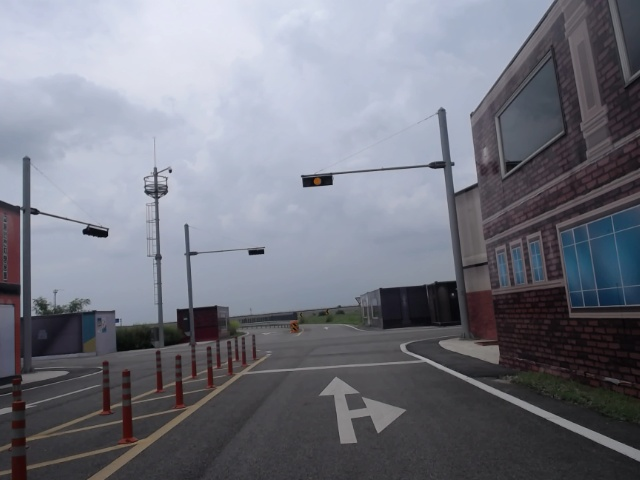orange_3: (303, 174, 333, 188)
